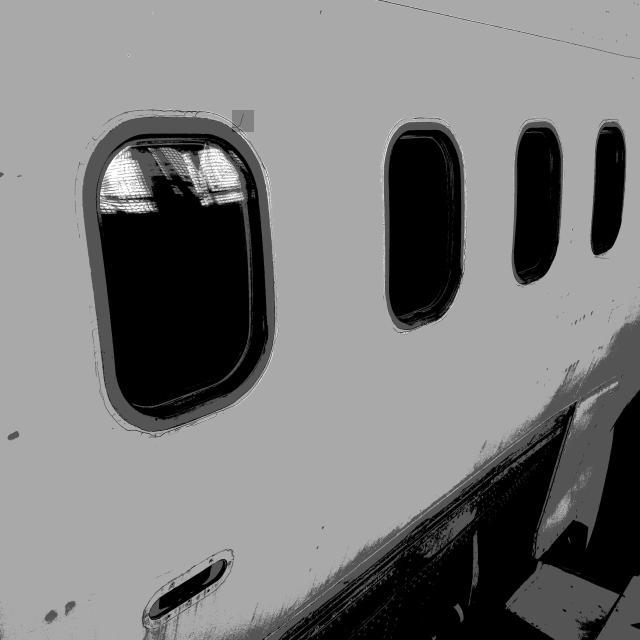crack: (233, 112, 255, 134)
